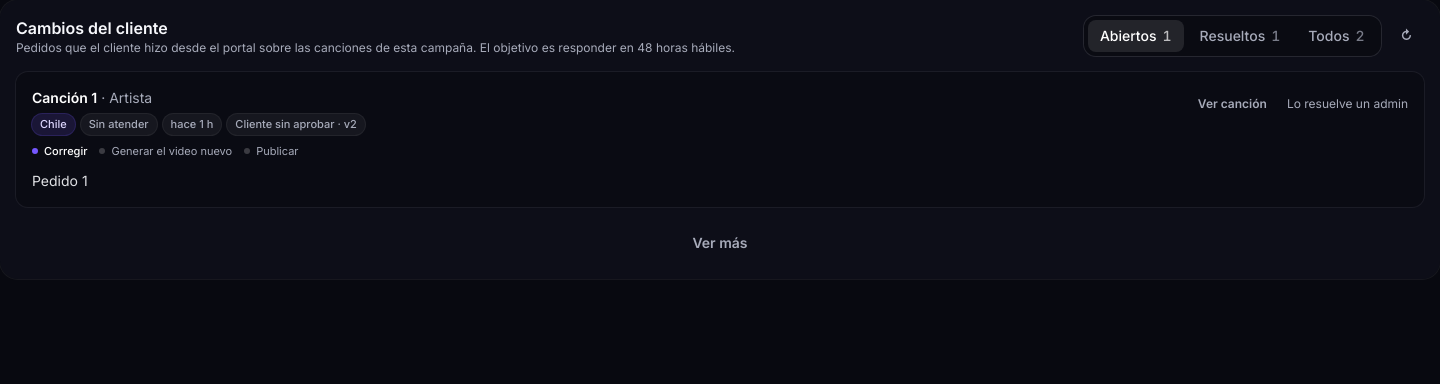
Test: client changes inbox › loads the next page with the cursor and appends it
The width and height of the screenshot is (1440, 384).
expect the text "Pedido 1" is shown: met, box 32,172 -> 88,189
Click the button "Ver más": (720, 243) 676,223 -> 764,263
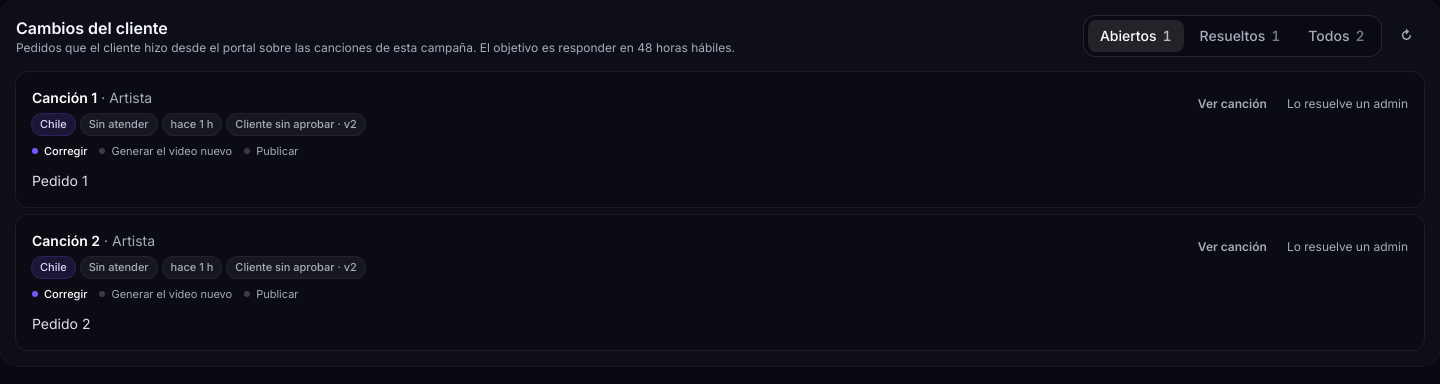
expect the text "Pedido 1" is shown: met, box 32,172 -> 88,189
expect the text "Pedido 2" is shown: met, box 32,315 -> 90,332
